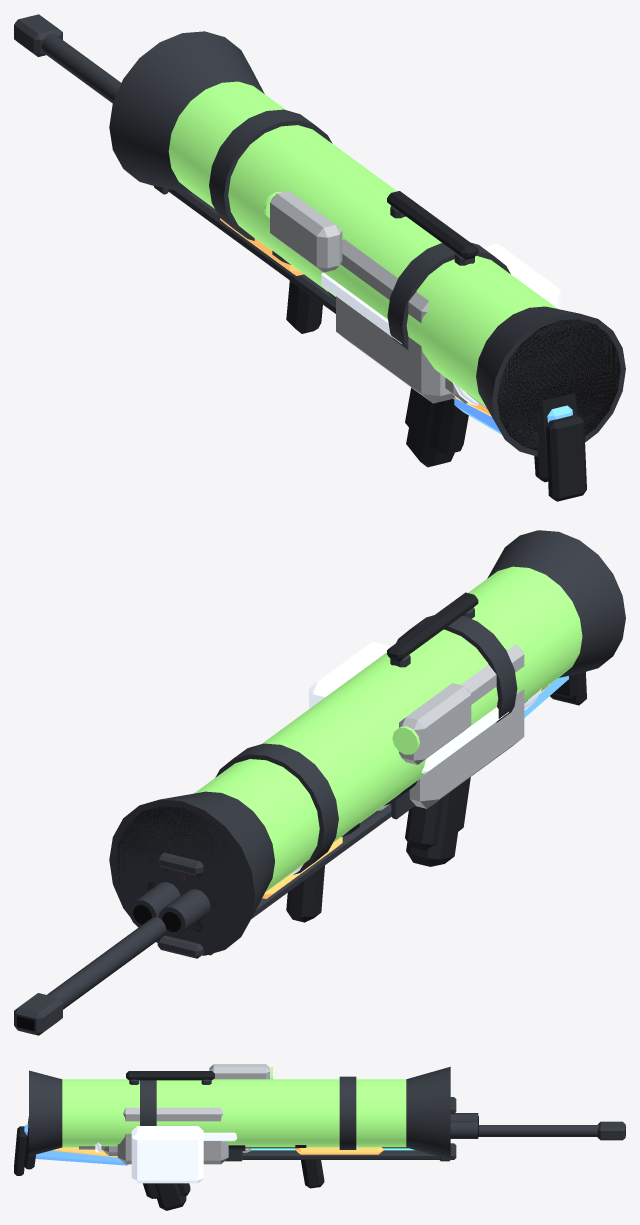
Rendered from weapons.glb.
3 renders of one model, top to bottom at view 1: azimuth 30°, elevation 25°; view 2: azimuth 150°, elevation 25°; view 3: azimuth 270°, elevation 25°, orthographic. The views are drawn at different scales.
Parts seen in each view (by area): view 1: rocket, minigun, sniper, railgun, shotgun, pistol; view 2: rocket, minigun, sniper, railgun, shotgun, pistol, minigun_spin; view 3: rocket, minigun, sniper, railgun, shotgun, pistol.
Part boxes in pixels (box(x1,y1,x2,y2)): rocket: box(109, 31, 625, 456); minigun: box(321, 191, 560, 455); sniper: box(14, 14, 586, 501); railgun: box(154, 186, 467, 403); shotgun: box(220, 218, 577, 482); pistol: box(406, 391, 454, 467); rocket: box(109, 530, 625, 955); minigun: box(309, 592, 547, 828); sniper: box(14, 672, 586, 1035); railgun: box(154, 790, 415, 958); shotgun: box(129, 673, 582, 936); pistol: box(406, 781, 465, 866); minigun_spin: box(144, 823, 359, 935); rocket: box(29, 1064, 450, 1195); minigun: box(79, 1071, 245, 1198); sniper: box(14, 1121, 625, 1198); railgun: box(102, 1097, 456, 1161); shotgun: box(23, 1113, 478, 1197); pistol: box(155, 1183, 186, 1210).
Size of the model in its own units: 0.205 by 0.2742 by 1.1.
